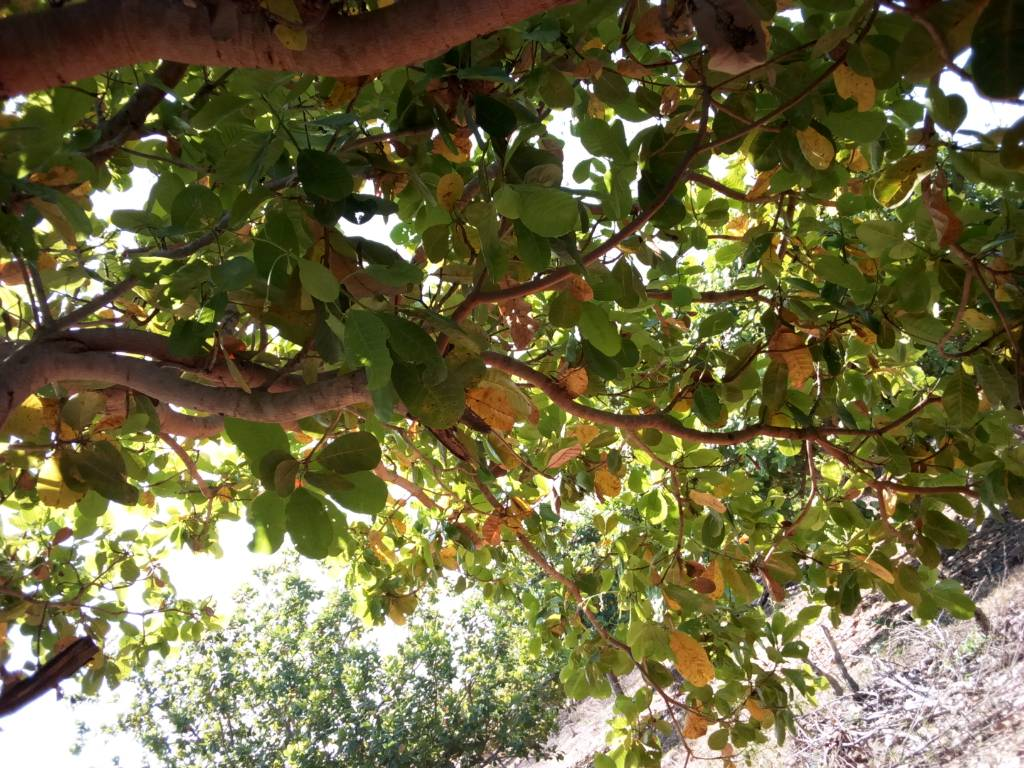Anthracnose: (404, 380, 465, 427)
